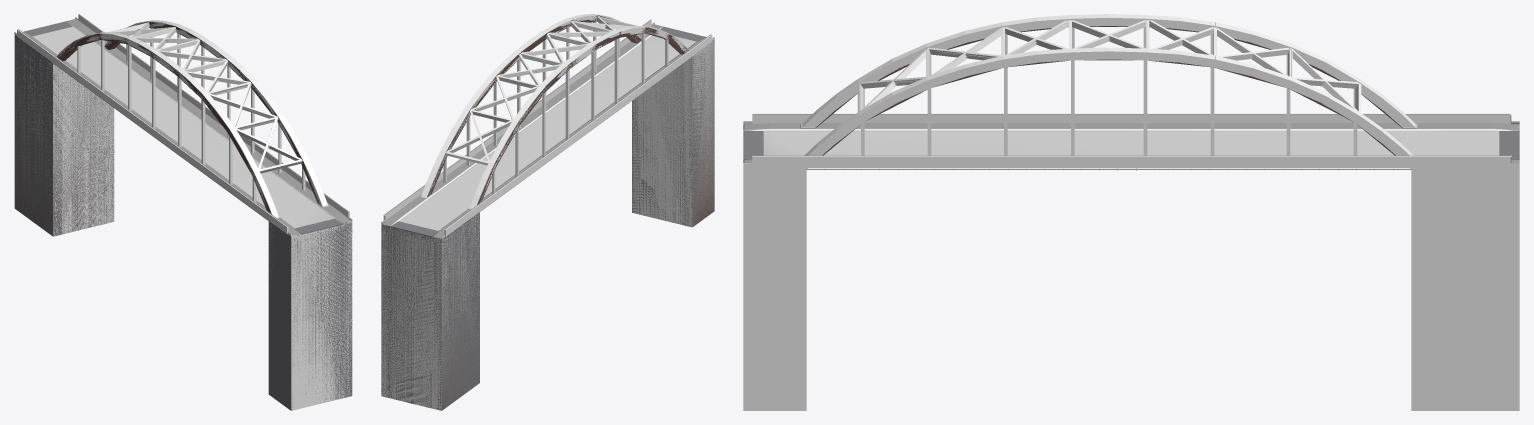
File: eca_bld_bridge_80m.dae
3 renders of one model, left to right at view 1: azimuth 30°, elevation 25°; view 2: azimuth 150°, elevation 25°; view 3: azimuth 270°, elevation 25°, orthographic. The views are drawn at different scales.
Parts seen in each view (by area): view 1: Colmesh-1, eca_bld_bridge_80m_a20, eca_bld_bridge_80m_a300, eca_bld_bridge_80m_a2000; view 2: Colmesh-1, eca_bld_bridge_80m_a300, eca_bld_bridge_80m_a20, eca_bld_bridge_80m_a2000; view 3: Colmesh-1, eca_bld_bridge_80m_a300, eca_bld_bridge_80m_a2000, eca_bld_bridge_80m_a20.
Boxes of the visible parts, box(x1,y1,x2,y2) form: Colmesh-1: box(17, 14, 352, 410); eca_bld_bridge_80m_a20: box(14, 21, 352, 410); eca_bld_bridge_80m_a300: box(14, 14, 352, 410); eca_bld_bridge_80m_a2000: box(14, 14, 352, 387); Colmesh-1: box(381, 14, 712, 410); eca_bld_bridge_80m_a300: box(381, 14, 714, 410); eca_bld_bridge_80m_a20: box(381, 15, 714, 410); eca_bld_bridge_80m_a2000: box(381, 21, 714, 401); Colmesh-1: box(743, 14, 1519, 410); eca_bld_bridge_80m_a300: box(743, 14, 1519, 170); eca_bld_bridge_80m_a2000: box(743, 37, 1519, 165); eca_bld_bridge_80m_a20: box(743, 22, 1519, 168).
Size of the model in its own units: 11.32 by 86.04 by 43.69.
